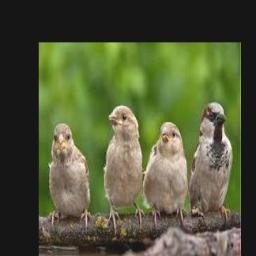Sparrow: (189, 101, 233, 223), (104, 105, 145, 232), (48, 123, 92, 231), (143, 121, 188, 222)
